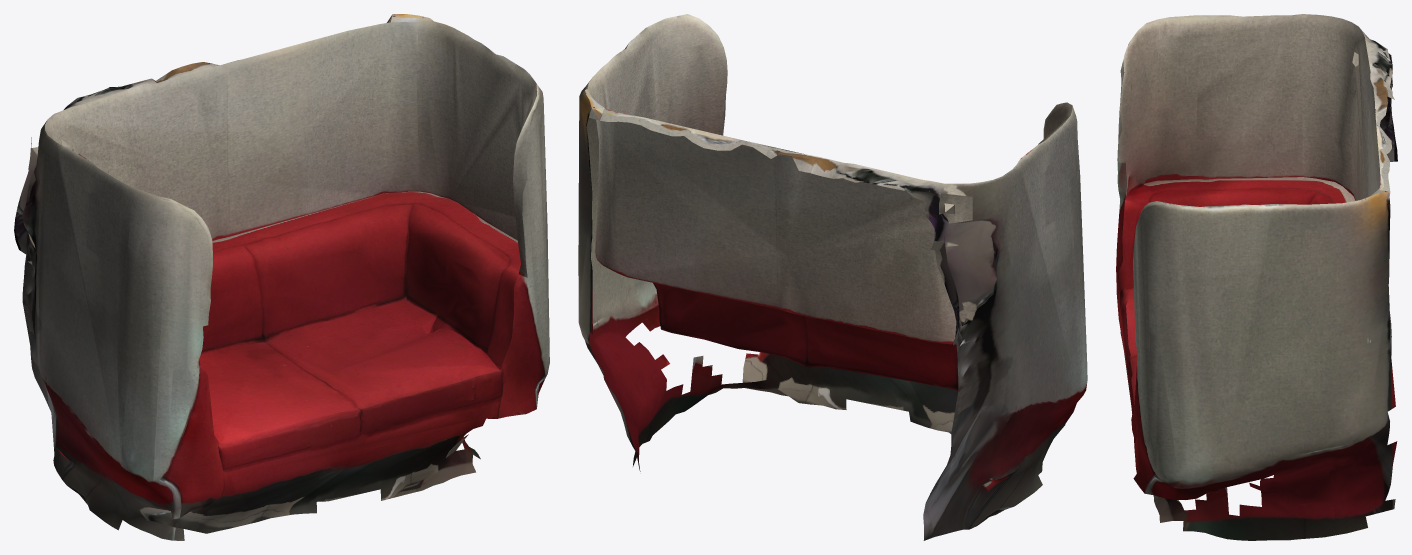
File: Sofa-IM.fbx
The picture shows the model from 3 angles, left to right: view 1: azimuth 30°, elevation 25°; view 2: azimuth 150°, elevation 25°; view 3: azimuth 270°, elevation 25°; orthographic projection. The views are drawn at different scales.
Visible parts, largest first — view 1: Sofa-IM; view 2: Sofa-IM; view 3: Sofa-IM.
Boxes of the visible parts, x1,y1,x2,y2 form: Sofa-IM: (14, 14, 549, 540); Sofa-IM: (578, 14, 1087, 540); Sofa-IM: (1116, 14, 1397, 540).
Size of the model in its own units: 168 by 136 by 97.2.
1 material, 1 textured.
